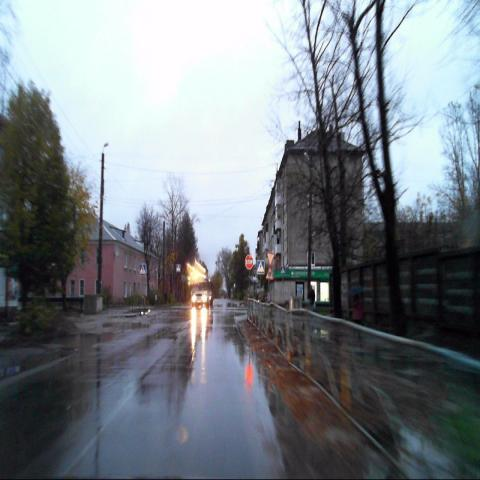1_23: (266, 265, 273, 280)
2_4: (267, 252, 275, 266)
2_5: (245, 254, 253, 269)
5_19_1: (256, 260, 264, 275)
